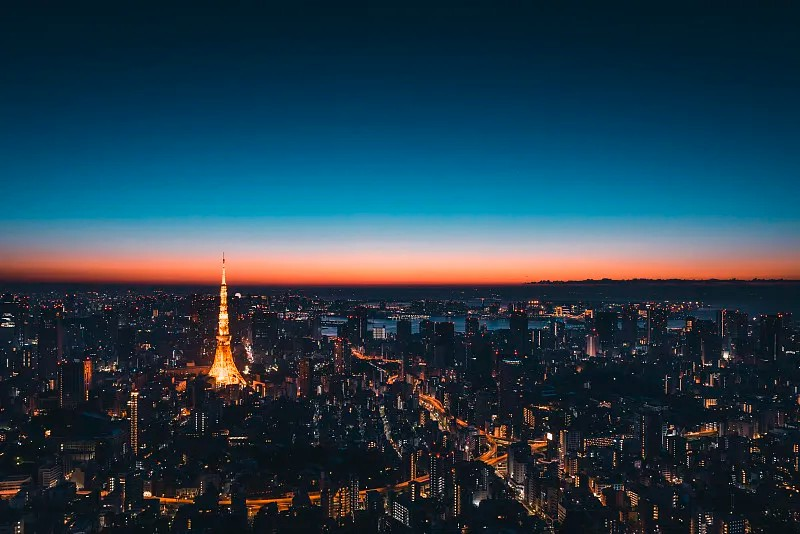Tokyo: (202, 249, 248, 389)
